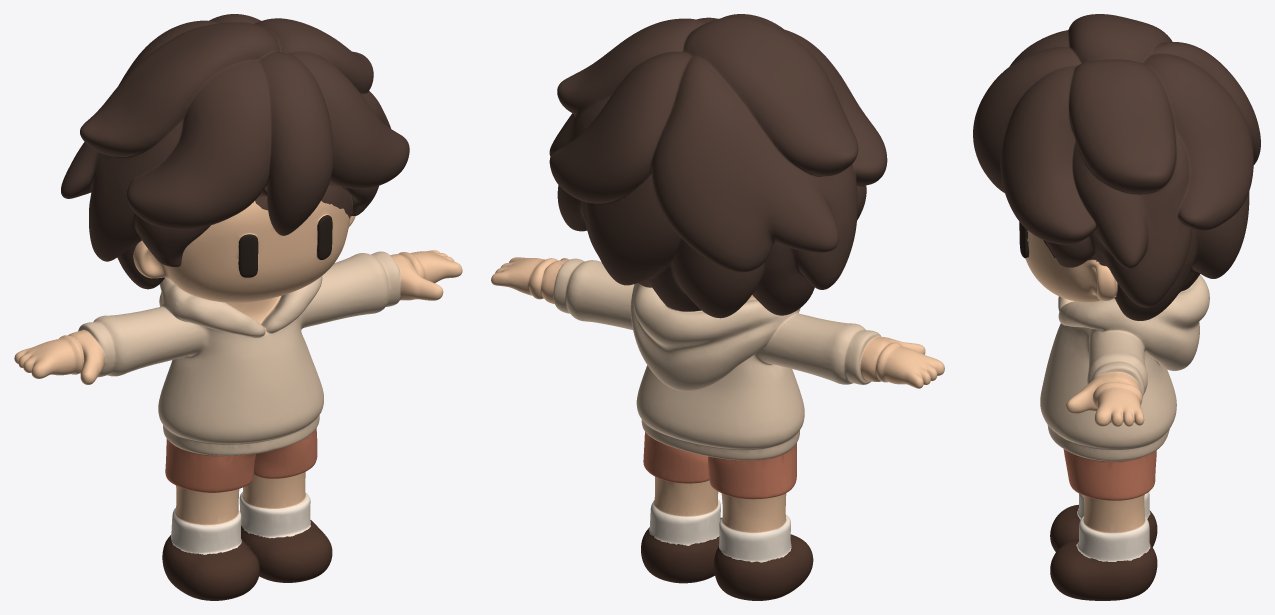
3 renders of one model, left to right at view 1: azimuth 30°, elevation 25°; view 2: azimuth 150°, elevation 25°; view 3: azimuth 270°, elevation 25°, orthographic. The views are drawn at different scales.
Parts seen in each view (by area): view 1: Original surface / semantic matte materials; view 2: Original surface / semantic matte materials; view 3: Original surface / semantic matte materials.
Part boxes in pixels (box(x1,y1,x2,y2)): Original surface / semantic matte materials: box(14, 14, 462, 600); Original surface / semantic matte materials: box(491, 14, 944, 600); Original surface / semantic matte materials: box(973, 14, 1260, 600).
Size of the model in its own units: 1.56 by 1.9 by 0.9183.
